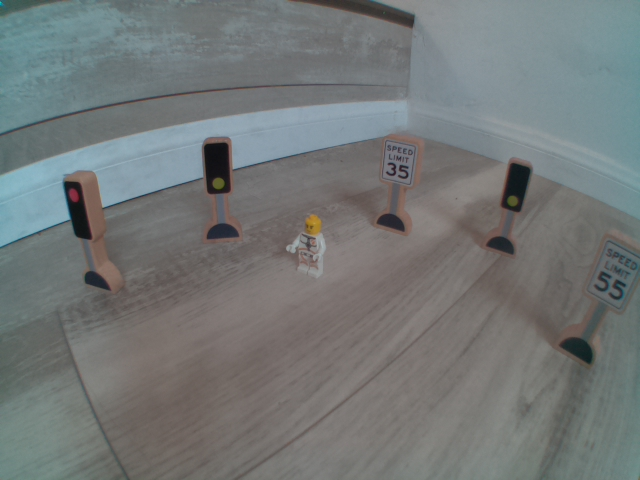Green Traffic Light: (193, 135, 242, 201), (494, 151, 538, 214)
Red Traffic Light: (52, 167, 109, 245)
Speed Limit 35: (371, 128, 426, 190)
Speed Limit 55: (580, 219, 640, 320)
person: (283, 209, 332, 283)
